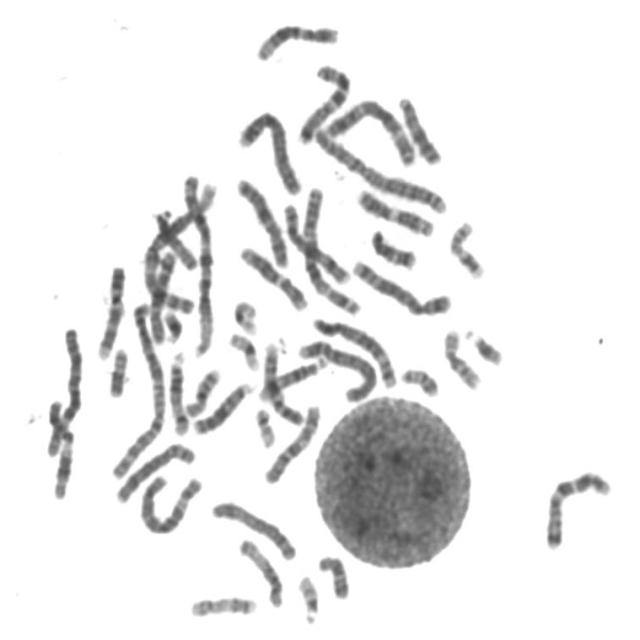A1: (140, 172, 221, 344), (178, 168, 218, 360)
A2: (309, 122, 452, 216), (106, 295, 170, 482)
A3: (296, 180, 364, 317), (317, 92, 422, 169)
B4: (234, 103, 306, 197), (295, 333, 380, 403)
B5: (308, 311, 400, 390), (348, 252, 456, 318)
C10: (260, 396, 326, 486), (146, 245, 179, 346)
C11: (352, 181, 438, 239), (43, 392, 78, 502)
C12: (235, 239, 312, 312), (251, 16, 343, 62)
C6: (42, 319, 88, 459), (136, 467, 206, 536)
C7: (542, 462, 616, 552), (293, 56, 356, 146)
C8: (279, 195, 353, 286), (111, 436, 200, 505)
C9: (260, 337, 308, 428), (93, 258, 129, 362)
D13: (394, 88, 446, 167), (189, 375, 256, 436)
D14: (256, 352, 332, 401), (165, 344, 194, 436)
D15: (235, 532, 288, 610), (148, 204, 201, 272)
E16: (439, 323, 485, 391), (182, 362, 224, 419)
E17: (446, 213, 490, 280), (186, 589, 262, 619)
E18: (366, 222, 422, 271), (314, 548, 354, 601)
F19: (225, 325, 263, 373), (228, 294, 262, 337)
F20: (397, 359, 444, 398), (105, 341, 132, 399)
G21: (461, 321, 508, 368), (158, 302, 186, 344)
G22: (293, 568, 323, 627), (251, 401, 280, 450)
X: (208, 494, 301, 563), (232, 170, 292, 269)
